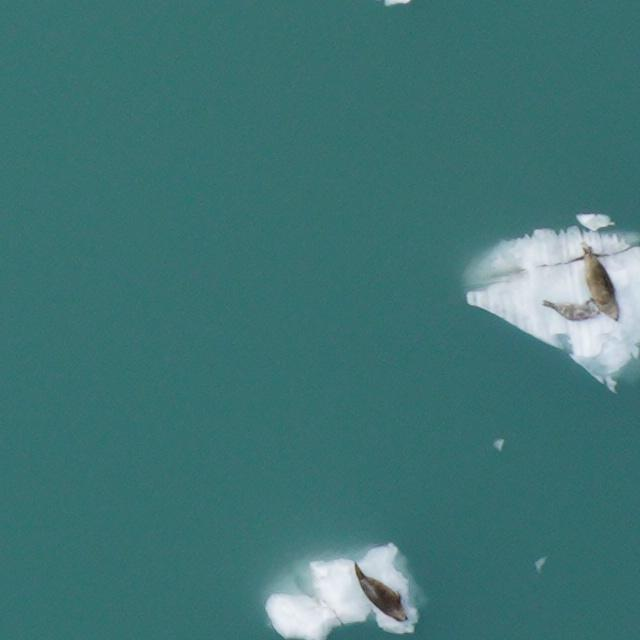seal: (344, 557, 417, 630), (571, 243, 628, 328), (543, 298, 600, 322)
